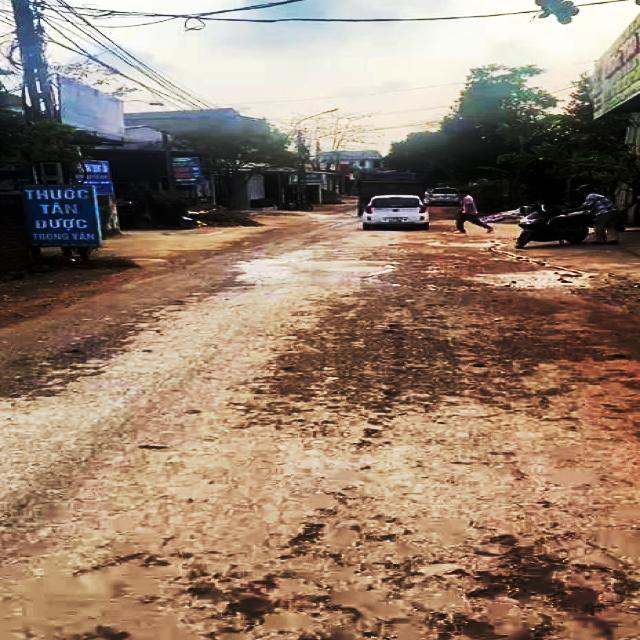pothole: (444, 553, 602, 618)
